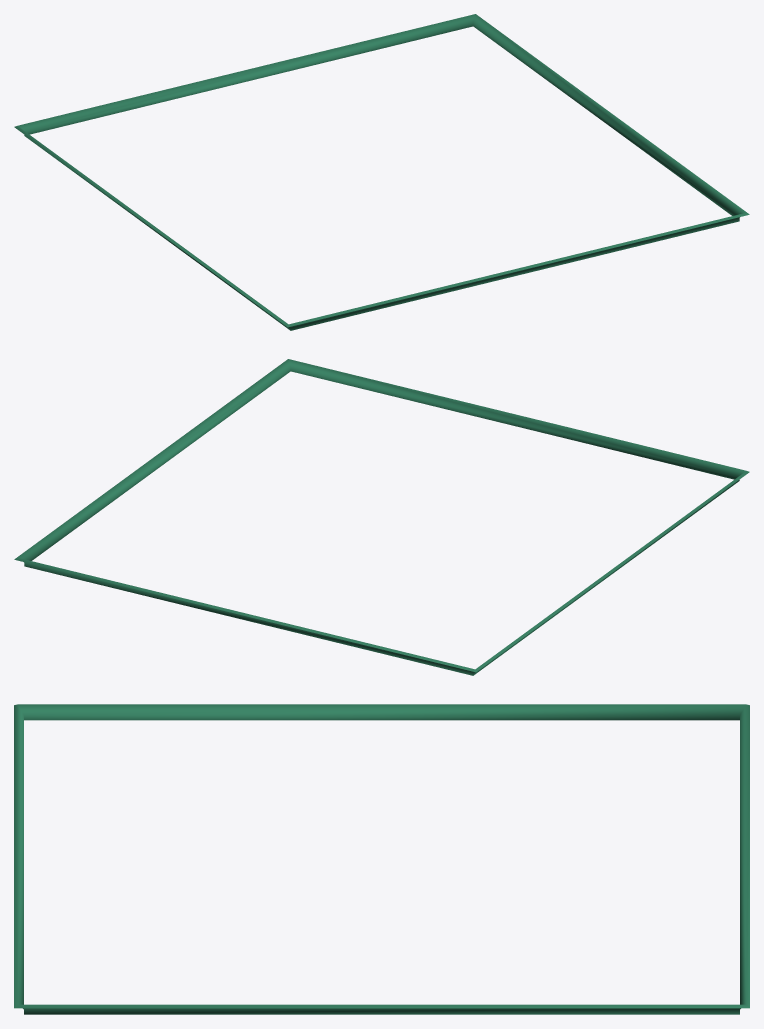
Rendered from round.fbx.
3 views of the same model, one above another, from view 1: azimuth 30°, elevation 25°; view 2: azimuth 150°, elevation 25°; view 3: azimuth 270°, elevation 25° (orthographic). The views are drawn at different scales.
Parts seen in each view (by area): view 1: round; view 2: round; view 3: round.
Part boxes in pixels (left/top/right/bottom): round: left=14, top=14, right=749, bottom=330; round: left=14, top=359, right=749, bottom=675; round: left=14, top=704, right=749, bottom=1014.
Size of the model in its own units: 664 by 681 by 13.01.
